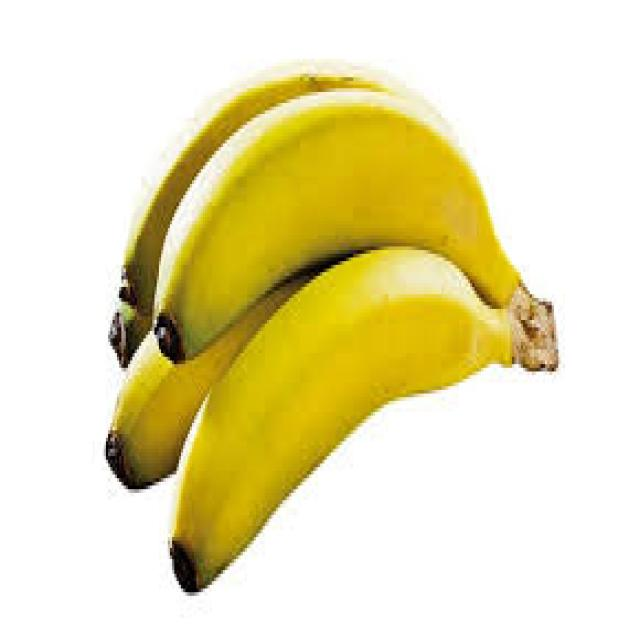banana: (101, 60, 564, 591)
